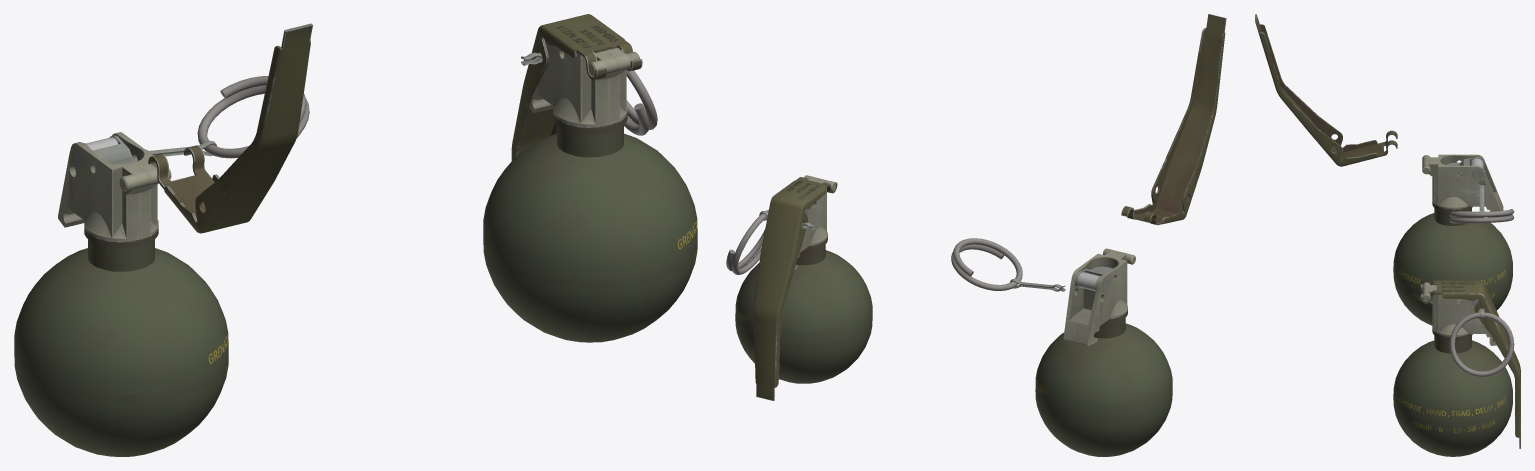
Rendered from item_m67.glb.
3 renders of one model, left to right at view 1: azimuth 30°, elevation 25°; view 2: azimuth 150°, elevation 25°; view 3: azimuth 270°, elevation 25°, orthographic. The views are drawn at different scales.
Visible parts, largest first — view 1: m67_base.001, m67_base, m67_spoon.001, m67_spoon, m67_ring.001, m67_ring, m67_striker.001; view 2: m67_base.001, m67_base, m67_spoon, m67_spoon.001, m67_ring.001, m67_ring, m67_striker.001; view 3: m67_base, m67_base.001, m67_spoon.001, m67_spoon, m67_ring, m67_ring.001.
Boxes of the visible parts, box(x1,y1,x2,y2) form: m67_base.001: box(14, 132, 228, 456); m67_base: box(483, 39, 697, 342); m67_spoon.001: box(148, 23, 312, 233); m67_spoon: box(511, 14, 642, 160); m67_ring.001: box(197, 76, 309, 158); m67_ring: box(624, 70, 657, 135); m67_striker.001: box(83, 135, 137, 163); m67_base.001: box(1035, 248, 1172, 456); m67_base: box(735, 175, 872, 383); m67_spoon: box(753, 176, 837, 400); m67_spoon.001: box(1121, 14, 1226, 225); m67_ring.001: box(951, 238, 1022, 290); m67_ring: box(726, 210, 768, 274); m67_striker.001: box(1075, 266, 1112, 291); m67_base: box(1393, 282, 1512, 456); m67_base.001: box(1393, 154, 1512, 325); m67_spoon.001: box(1255, 14, 1397, 166); m67_spoon: box(1420, 280, 1520, 448); m67_ring: box(1449, 312, 1514, 376); m67_ring.001: box(1449, 209, 1514, 223).
Bounding box in the file's own units: 0.2077 × 0.1666 × 0.1312.
Materials: 1 (1 with a texture image).
